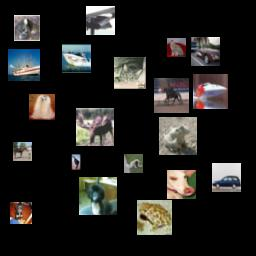airplane: (68, 154, 84, 170)
automobile: (191, 37, 220, 66), (212, 163, 241, 192)
cat: (114, 57, 146, 89), (14, 15, 40, 41), (167, 38, 186, 57)
deer: (76, 108, 114, 146)
dog: (79, 177, 117, 215), (167, 170, 196, 199), (29, 94, 55, 120), (10, 202, 32, 224), (124, 154, 143, 173)
frog: (159, 117, 197, 155), (137, 200, 172, 235)
ship: (193, 74, 228, 109), (8, 49, 40, 81), (86, 6, 115, 35), (62, 44, 91, 73)
